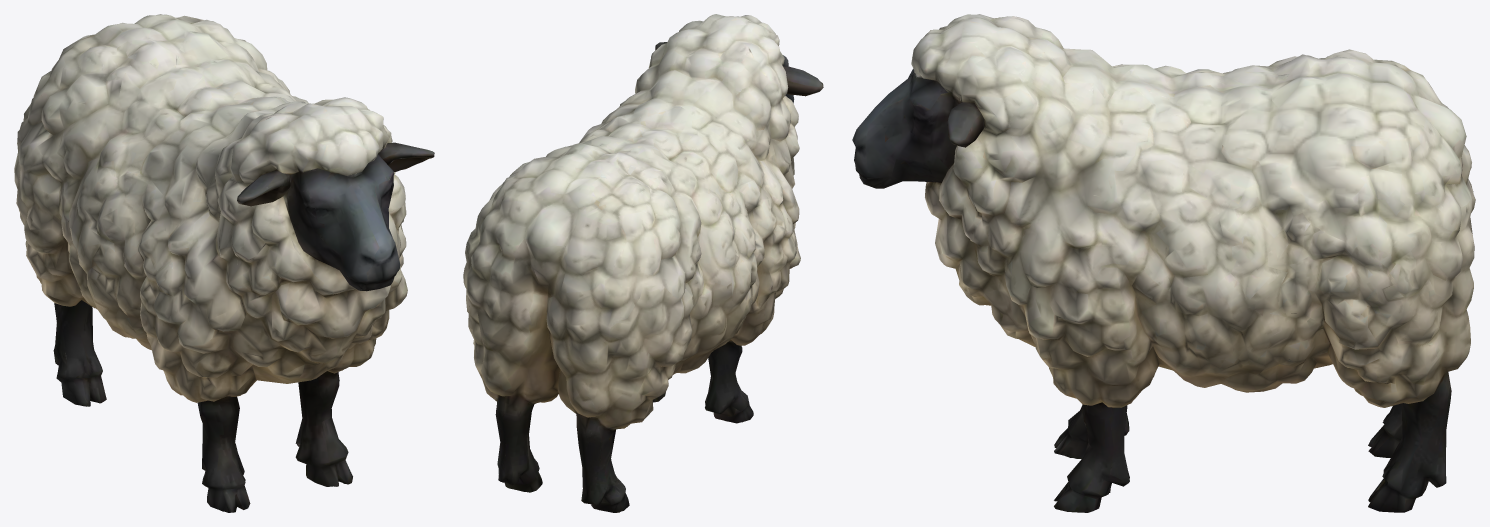
Rendered from animal_sheep.glb.
3 renders of one model, left to right at view 1: azimuth 30°, elevation 25°; view 2: azimuth 150°, elevation 25°; view 3: azimuth 270°, elevation 25°, orthographic. The views are drawn at different scales.
Parts seen in each view (by area): view 1: world; view 2: world; view 3: world.
Boxes of the visible parts, x1,y1,x2,y2 form: world: (14, 14, 434, 512); world: (463, 14, 823, 512); world: (852, 14, 1475, 512).
Bounding box in the file's own units: 0.6316 × 0.9498 × 1.18.
1 material, 1 textured.
